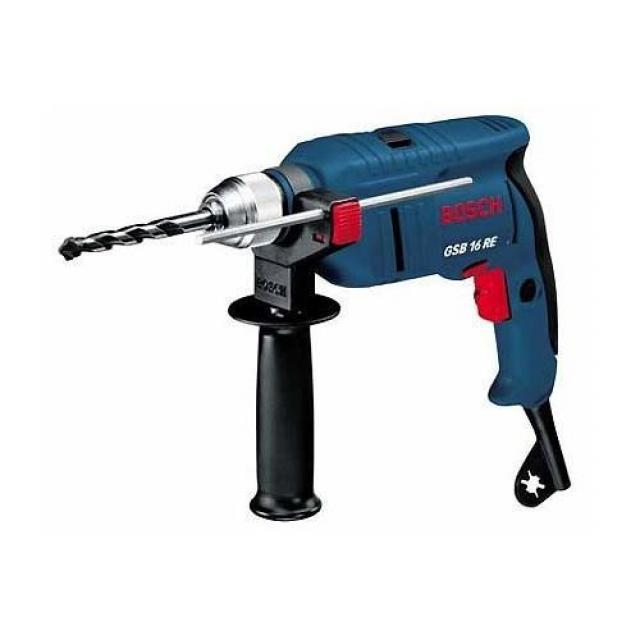drill: (57, 113, 573, 523)
